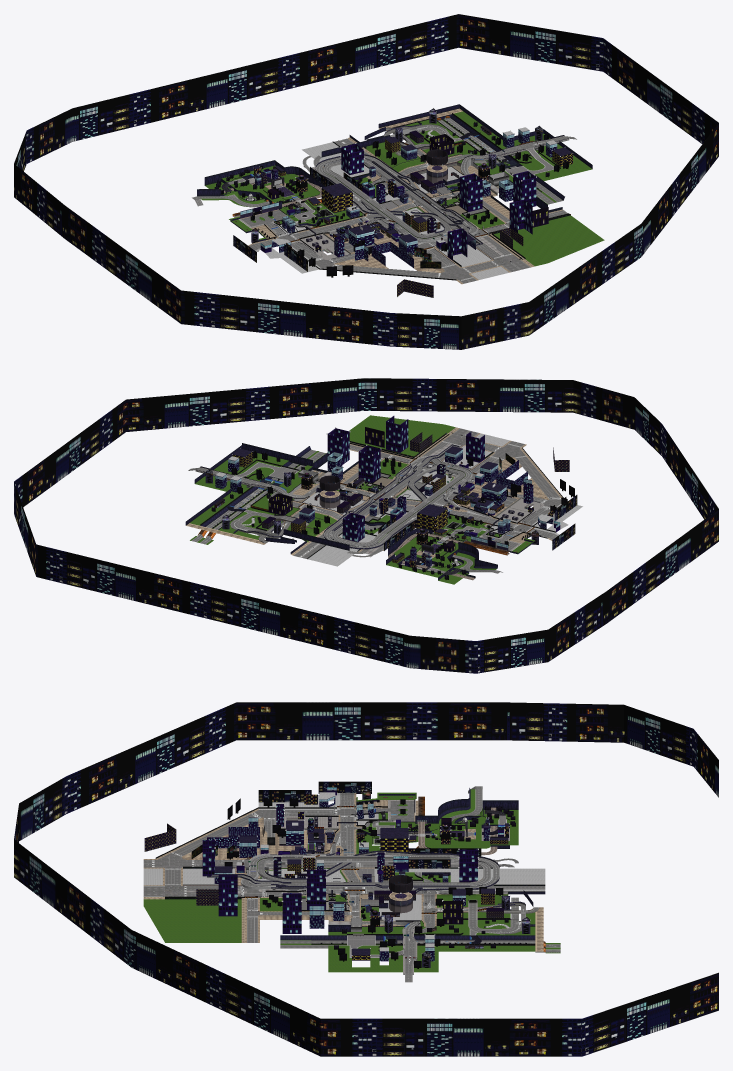
3 renders of one model, top to bottom at view 1: azimuth 30°, elevation 25°; view 2: azimuth 150°, elevation 25°; view 3: azimuth 270°, elevation 25°, orthographic. The views are drawn at different scales.
Parts seen in each view (by area): view 1: highspeedway_SKP__tex_low_tatemono, highspeedway_SKP__tex_tatemono, highspeedway_SKP__tex_road, highspeedway_SKP__tex_kusa, highspeedway_SKP__tex_konkurito, highspeedway_SKP__tex_wall, highspeedway_SKP__tex_konkurito2, highspeedway_SKP__tex_Fensu, highspeedway_SKP__tex_ki, highspeedway_SKP__tex_road2, highspeedway_SKP__tex_RoadWer, highspeedway_SKP__tex_wall1 (+4 smaller); view 2: highspeedway_SKP__tex_low_tatemono, highspeedway_SKP__tex_tatemono, highspeedway_SKP__tex_road, highspeedway_SKP__tex_kusa, highspeedway_SKP__tex_konkurito, highspeedway_SKP__tex_wall, highspeedway_SKP__tex_konkurito2, highspeedway_SKP__tex_Fensu, highspeedway_SKP__tex_ki, highspeedway_SKP__tex_RoadWer, highspeedway_SKP__tex_road2, highspeedway_SKP__tex_wall1 (+4 smaller); view 3: highspeedway_SKP__tex_low_tatemono, highspeedway_SKP__tex_tatemono, highspeedway_SKP__tex_road, highspeedway_SKP__tex_kusa, highspeedway_SKP__tex_konkurito, highspeedway_SKP__tex_konkurito2, highspeedway_SKP__tex_Fensu, highspeedway_SKP__tex_ki, highspeedway_SKP__tex_wall, highspeedway_SKP__tex_road2, highspeedway_SKP__tex_RoadWer, highspeedway_SKP__tex_wall1 (+4 smaller).
Boxes of the visible parts, bbox=[...] form: highspeedway_SKP__tex_low_tatemono: bbox=[14, 14, 718, 349]; highspeedway_SKP__tex_tatemono: bbox=[240, 129, 572, 297]; highspeedway_SKP__tex_road: bbox=[192, 124, 576, 283]; highspeedway_SKP__tex_kusa: bbox=[200, 111, 604, 266]; highspeedway_SKP__tex_konkurito: bbox=[238, 108, 569, 284]; highspeedway_SKP__tex_wall: bbox=[197, 104, 592, 241]; highspeedway_SKP__tex_konkurito2: bbox=[255, 127, 556, 279]; highspeedway_SKP__tex_Fensu: bbox=[227, 113, 569, 280]; highspeedway_SKP__tex_ki: bbox=[214, 121, 568, 277]; highspeedway_SKP__tex_road2: bbox=[227, 138, 553, 240]; highspeedway_SKP__tex_RoadWer: bbox=[267, 118, 507, 240]; highspeedway_SKP__tex_wall1: bbox=[315, 121, 469, 233]; highspeedway_SKP__tex_low_tatemono: bbox=[14, 378, 718, 673]; highspeedway_SKP__tex_tatemono: bbox=[215, 416, 569, 568]; highspeedway_SKP__tex_road: bbox=[188, 428, 561, 573]; highspeedway_SKP__tex_kusa: bbox=[189, 415, 539, 584]; highspeedway_SKP__tex_konkurito: bbox=[186, 427, 562, 569]; highspeedway_SKP__tex_wall: bbox=[185, 443, 541, 580]; highspeedway_SKP__tex_konkurito2: bbox=[216, 431, 582, 566]; highspeedway_SKP__tex_Fensu: bbox=[196, 434, 563, 573]; highspeedway_SKP__tex_ki: bbox=[211, 450, 574, 579]; highspeedway_SKP__tex_RoadWer: bbox=[191, 466, 471, 557]; highspeedway_SKP__tex_road2: bbox=[235, 456, 495, 573]; highspeedway_SKP__tex_wall1: bbox=[233, 456, 448, 549]; highspeedway_SKP__tex_low_tatemono: bbox=[14, 702, 718, 1056]; highspeedway_SKP__tex_tatemono: bbox=[144, 787, 508, 961]; highspeedway_SKP__tex_road: bbox=[143, 786, 545, 982]; highspeedway_SKP__tex_kusa: bbox=[143, 789, 560, 972]; highspeedway_SKP__tex_konkurito: bbox=[143, 793, 544, 973]; highspeedway_SKP__tex_konkurito2: bbox=[143, 792, 545, 951]; highspeedway_SKP__tex_Fensu: bbox=[155, 795, 535, 967]; highspeedway_SKP__tex_ki: bbox=[224, 798, 526, 968]; highspeedway_SKP__tex_wall: bbox=[280, 788, 545, 943]; highspeedway_SKP__tex_road2: bbox=[241, 813, 506, 957]; highspeedway_SKP__tex_RoadWer: bbox=[249, 855, 560, 952]; highspeedway_SKP__tex_wall1: bbox=[249, 850, 535, 926].
Size of the model in its own units: 416746 by 28662 by 392307.
37 materials, 36 textured.
